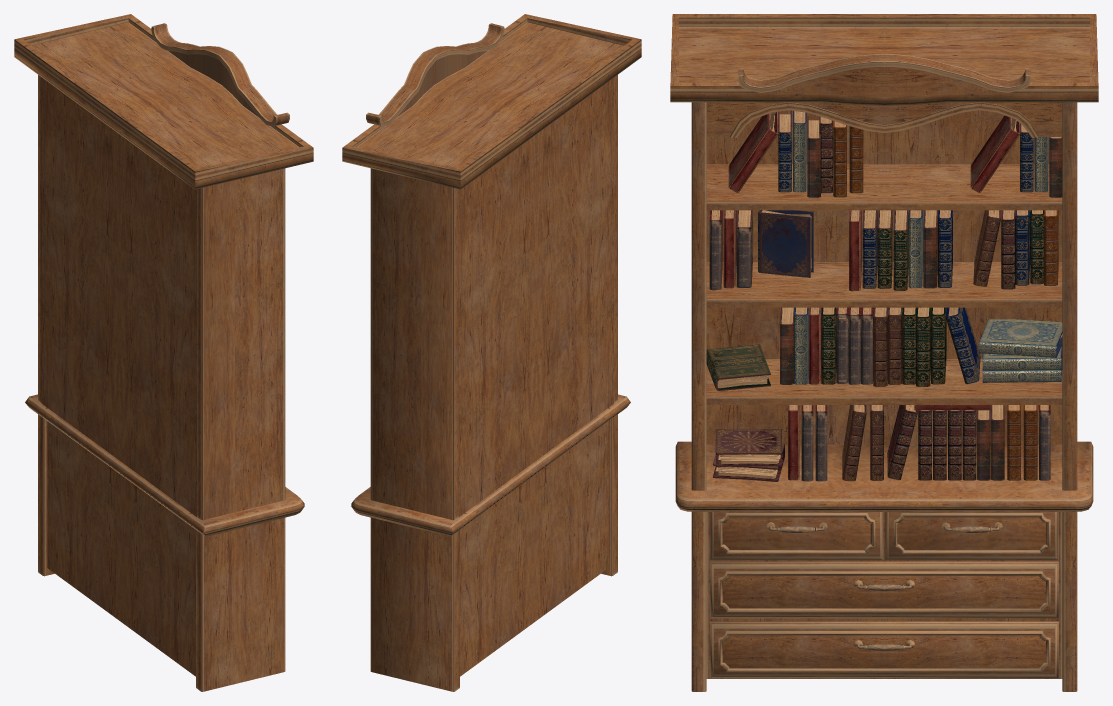
File: Cabinet_01.fbx
The picture shows the model from 3 angles, left to right: view 1: azimuth 30°, elevation 25°; view 2: azimuth 150°, elevation 25°; view 3: azimuth 270°, elevation 25°; orthographic projection. The views are drawn at different scales.
Parts seen in each view (by area): view 1: Cabinet; view 2: Cabinet; view 3: Cabinet, Books_02, Books_03, Books_01, Books_04, Box_01, Box_02.
Boxes of the visible parts, x1,y1,x2,y2 form: Cabinet: (14, 14, 313, 691); Cabinet: (342, 14, 641, 691); Cabinet: (670, 14, 1098, 691); Books_02: (706, 307, 1062, 390); Books_03: (709, 210, 1058, 291); Books_01: (713, 405, 1050, 481); Books_04: (728, 110, 1062, 197); Box_01: (710, 512, 883, 560); Box_02: (885, 512, 1058, 560).
Size of the model in its own units: 72.19 by 297 by 178.
